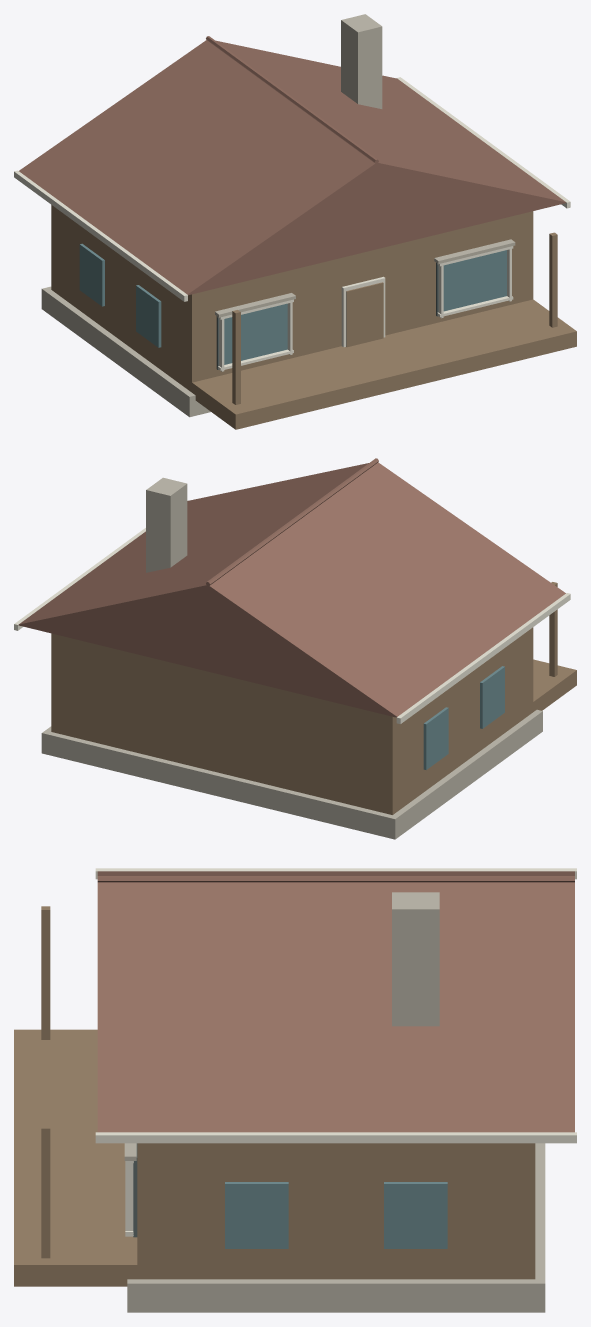
3 views of the same model, one above another, from view 1: azimuth 30°, elevation 25°; view 2: azimuth 150°, elevation 25°; view 3: azimuth 270°, elevation 25° (orthographic). The views are drawn at different scales.
Size of the model in its own units: 15.86 by 9.9 by 14.15.
